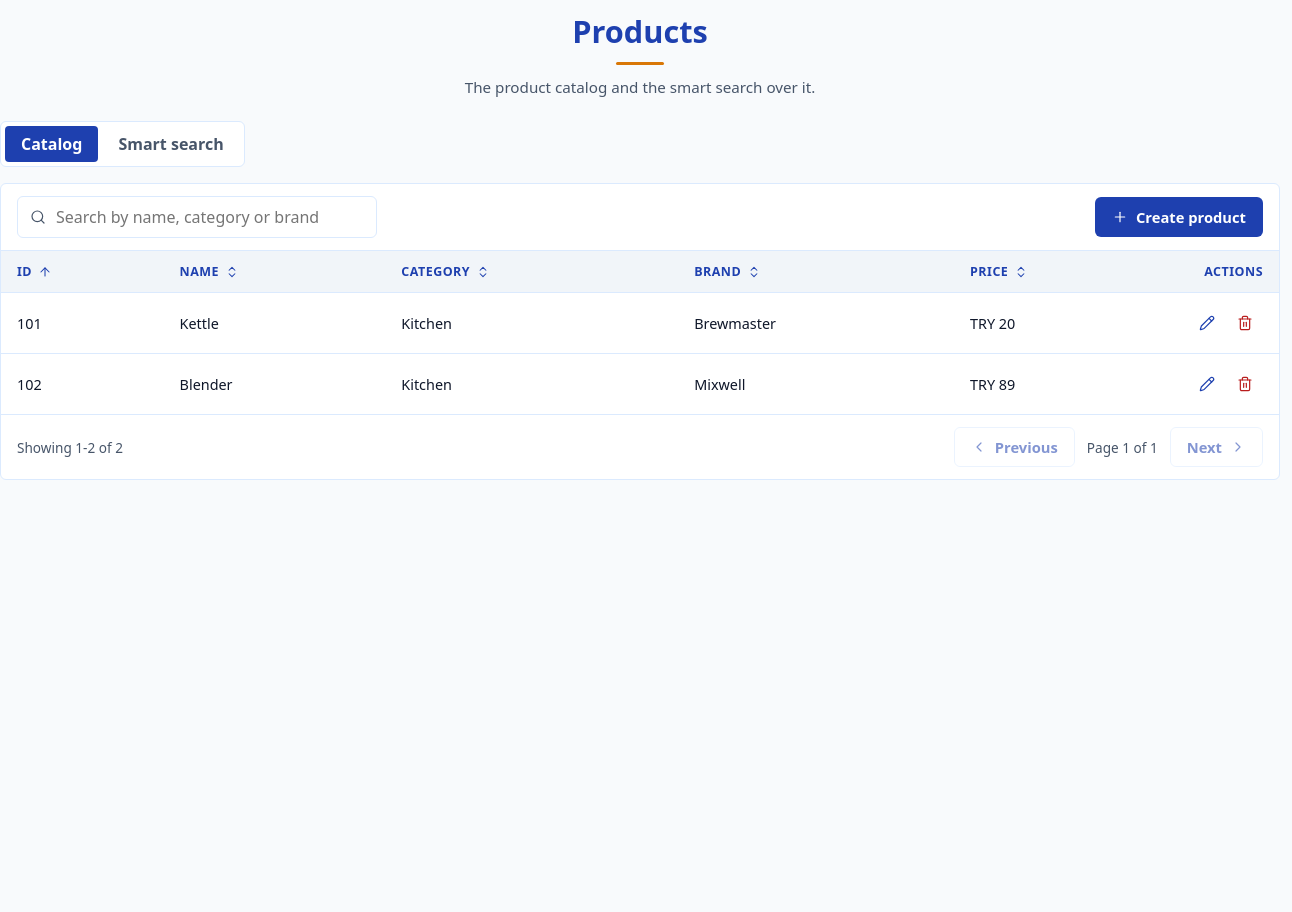
the segmented control switches to the smart search and back
Expected: the text "Kettle" is shown, [164,293,385,354]
Step 1. Click the button "Smart search" → click(171, 144), box [102,126,240,162]
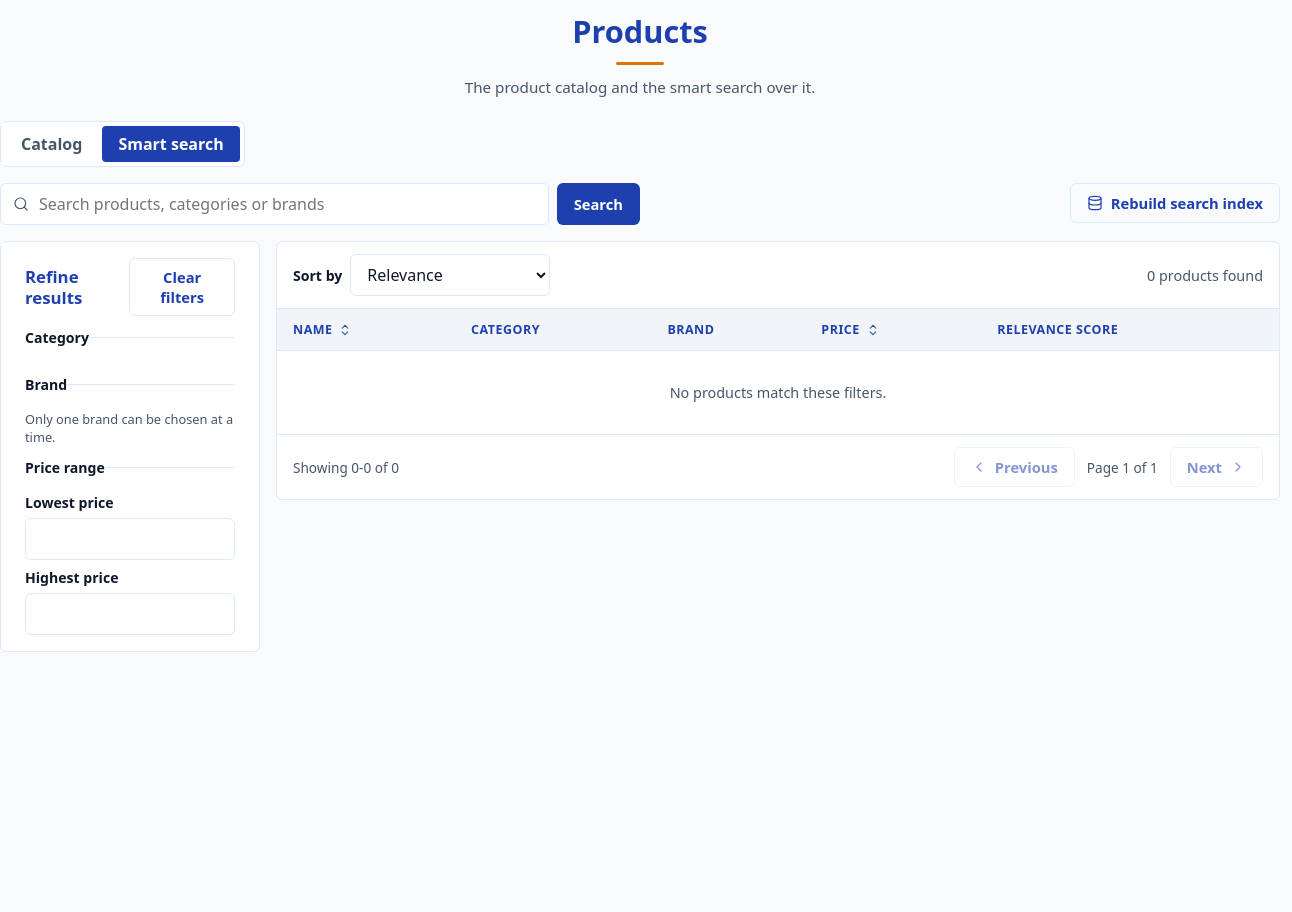
Expected: the dropdown labelled "Search products, categories or brands" is shown, [37,184,536,224]
Step 2. Click the button "Catalog" → click(52, 144), box [5,126,98,162]
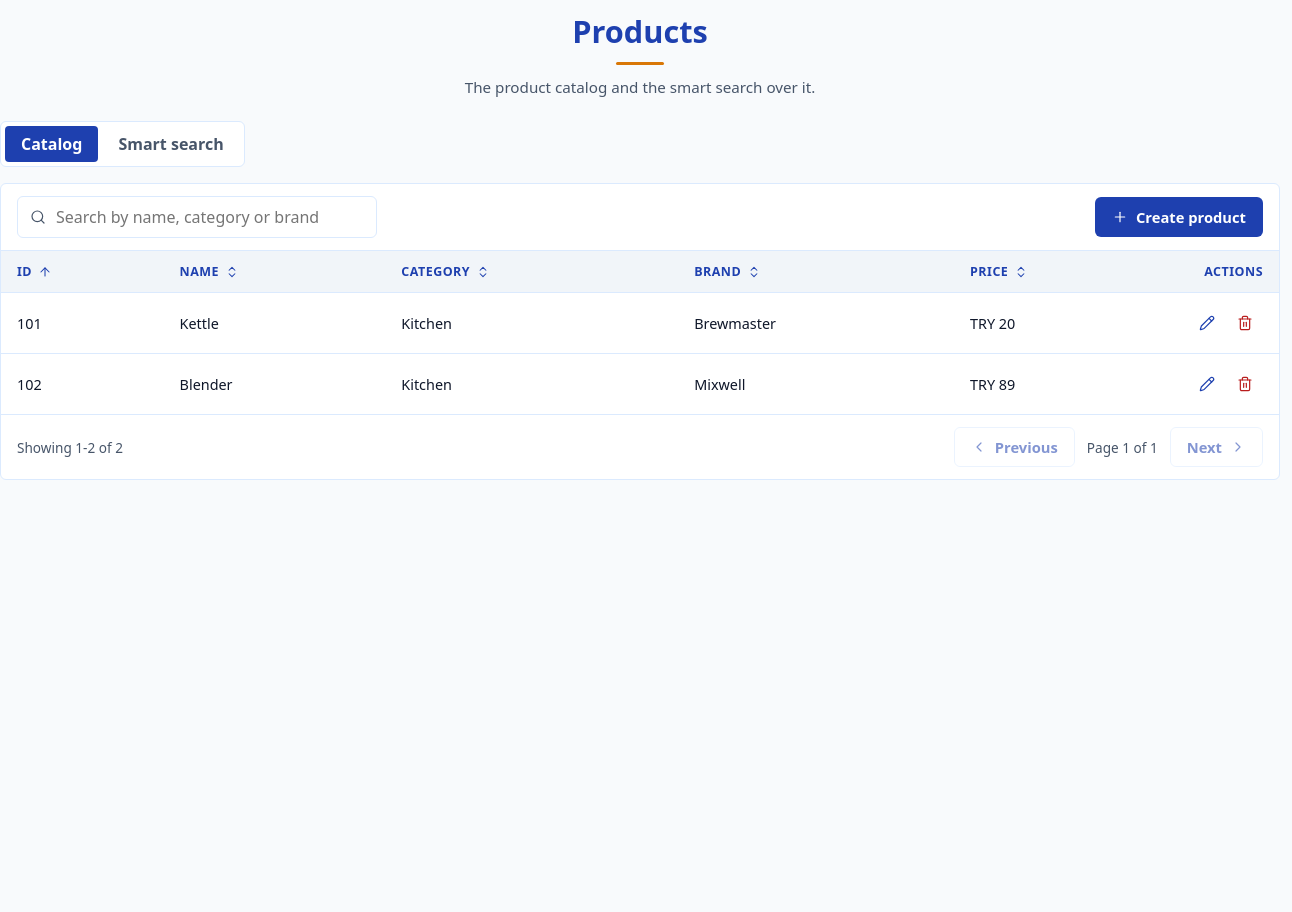
Expected: the text "Kettle" is shown, [164,293,385,354]
